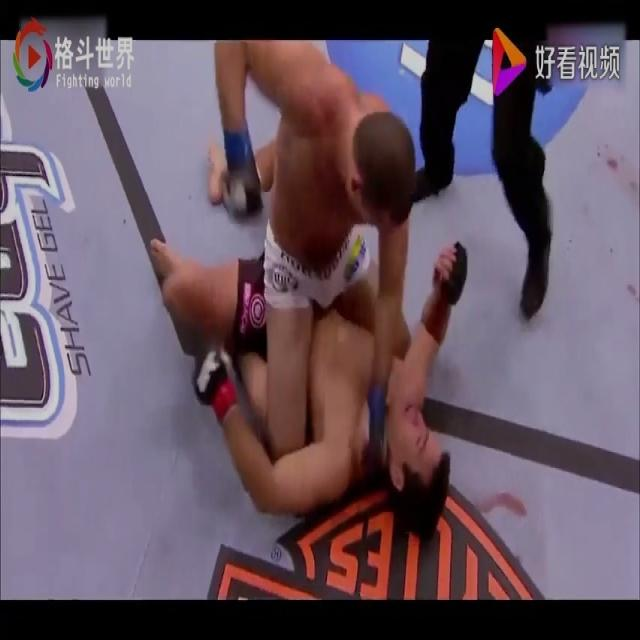fight: (143, 40, 470, 535)
